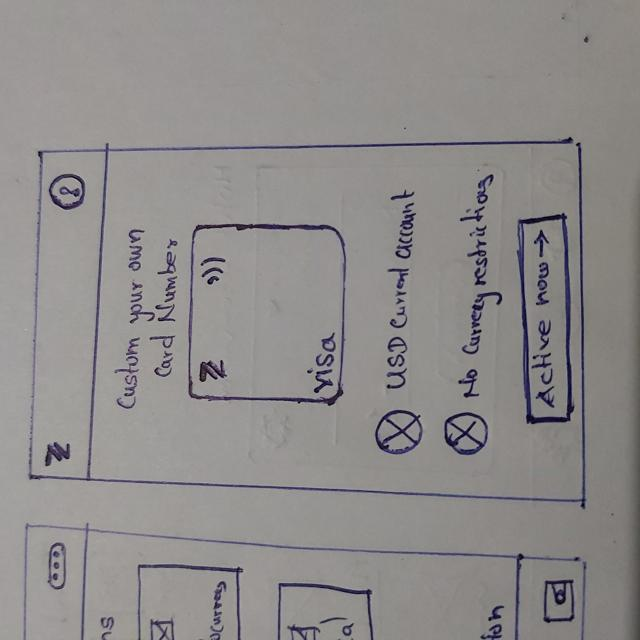ActionButton: (36, 165, 109, 227)
AppBar: (28, 148, 93, 483)
Button: (510, 210, 578, 430)
CardView: (185, 222, 350, 408)
DrawerToggleButton: (41, 440, 77, 471)
Icon: (48, 173, 90, 213), (199, 257, 228, 288), (197, 360, 228, 386), (530, 228, 553, 261)
MainLayout: (29, 139, 589, 503)
RoundedImage: (375, 408, 425, 457), (441, 412, 491, 460)
TextView: (116, 226, 175, 418), (460, 173, 493, 401), (384, 190, 415, 398), (316, 333, 335, 396)
